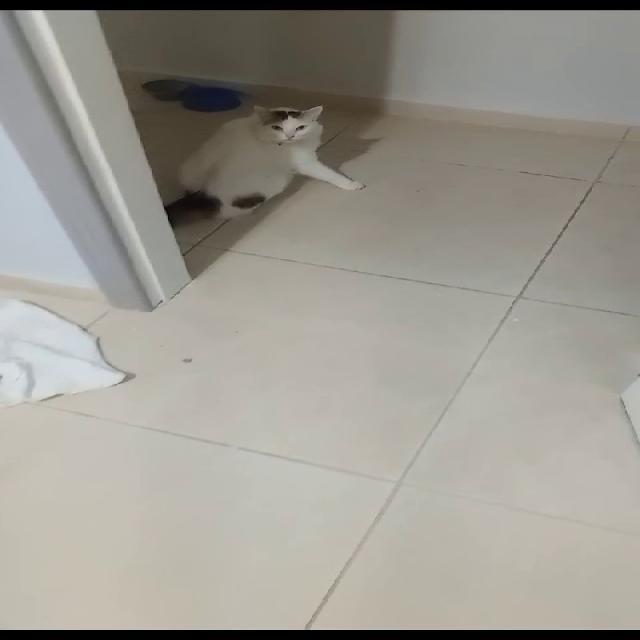Simba: (171, 98, 385, 217)
